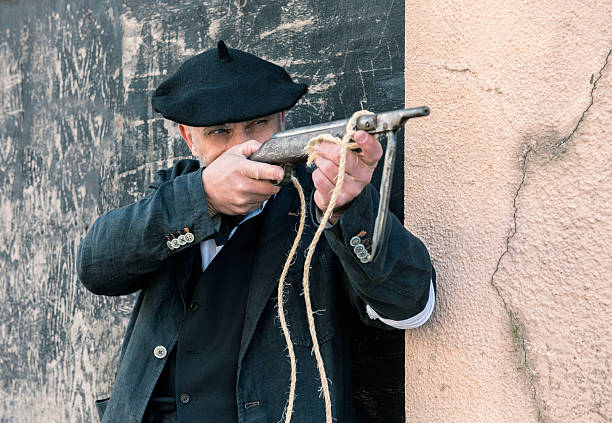gun: (246, 106, 433, 187)
